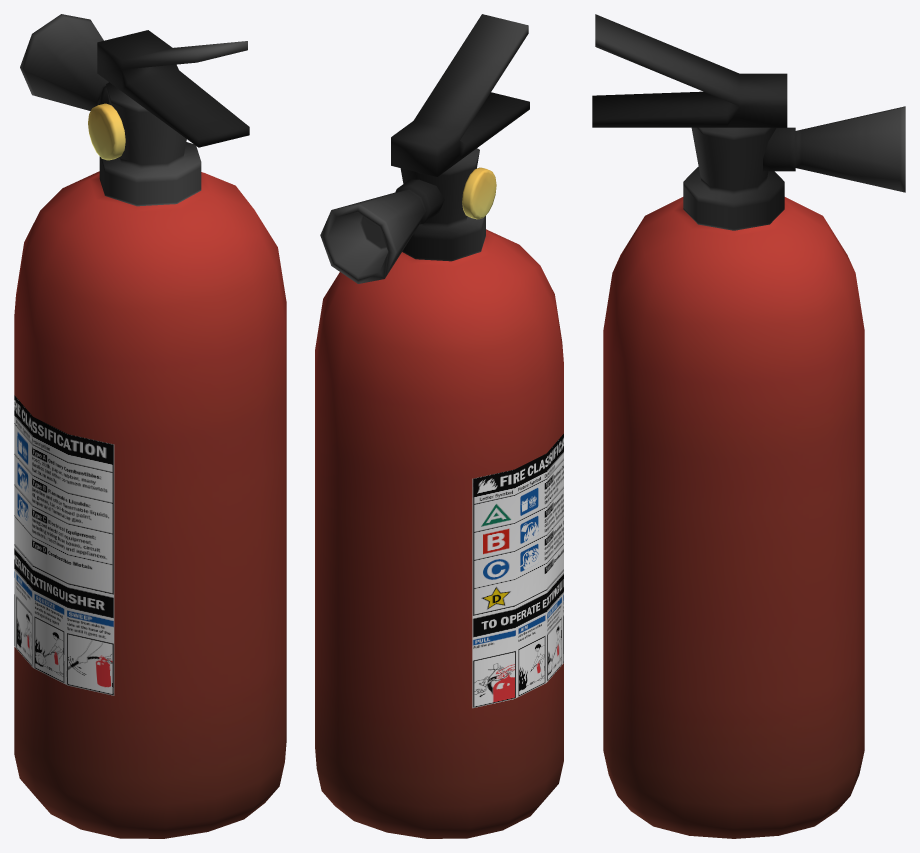
The model's file is fire_extinguisher (1).glb.
The picture shows the model from 3 angles, left to right: view 1: azimuth 30°, elevation 25°; view 2: azimuth 150°, elevation 25°; view 3: azimuth 270°, elevation 25°; orthographic projection. The views are drawn at different scales.
Parts seen in each view (by area): view 1: Cube, Plane, Cylinder.001, Cylinder; view 2: Cube, Plane, Cylinder.001, Cylinder; view 3: Cube, Plane, Cylinder.001.
Boxes of the visible parts, x1=… form: Cube: x1=14, y1=82, x2=286, y2=838; Plane: x1=97, y1=30, x2=249, y2=147; Cylinder.001: x1=20, y1=14, x2=109, y2=110; Cylinder: x1=88, y1=103, x2=125, y2=160; Cube: x1=315, y1=148, x2=563, y2=838; Plane: x1=391, y1=14, x2=529, y2=176; Cylinder.001: x1=320, y1=179, x2=444, y2=283; Cylinder: x1=462, y1=167, x2=496, y2=219; Cube: x1=603, y1=127, x2=864, y2=838; Plane: x1=592, y1=14, x2=787, y2=127; Cylinder.001: x1=763, y1=106, x2=905, y2=192.
Size of what is drawn, in the model's own units: 0.1756 by 0.5737 by 0.2109.
2 materials, 2 textured.
